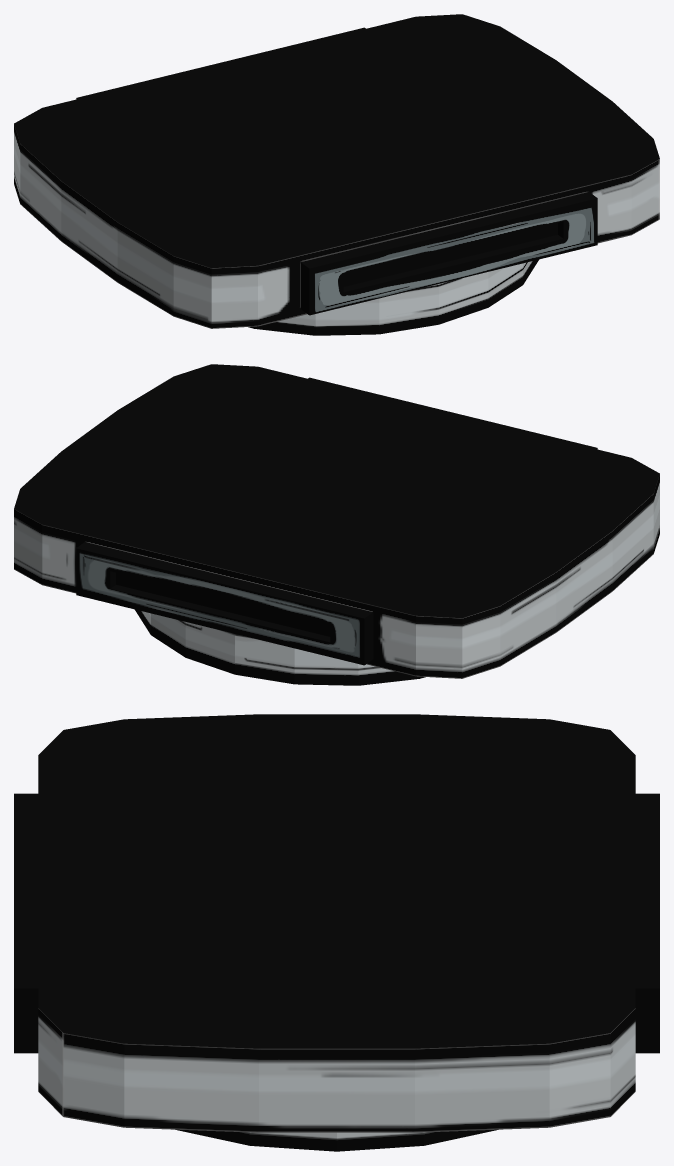
Rendered from fan.fbx.
3 renders of one model, top to bottom at view 1: azimuth 30°, elevation 25°; view 2: azimuth 150°, elevation 25°; view 3: azimuth 270°, elevation 25°, orthographic. The views are drawn at different scales.
Visible parts, largest first — view 1: Cube.002; view 2: Cube.002; view 3: Cube.002.
Boxes of the visible parts, box(x1,y1,x2,y2) form: Cube.002: box(14, 14, 659, 335); Cube.002: box(14, 364, 659, 685); Cube.002: box(14, 714, 659, 1151).
Size of the model in its own units: 312 by 65.65 by 255.
